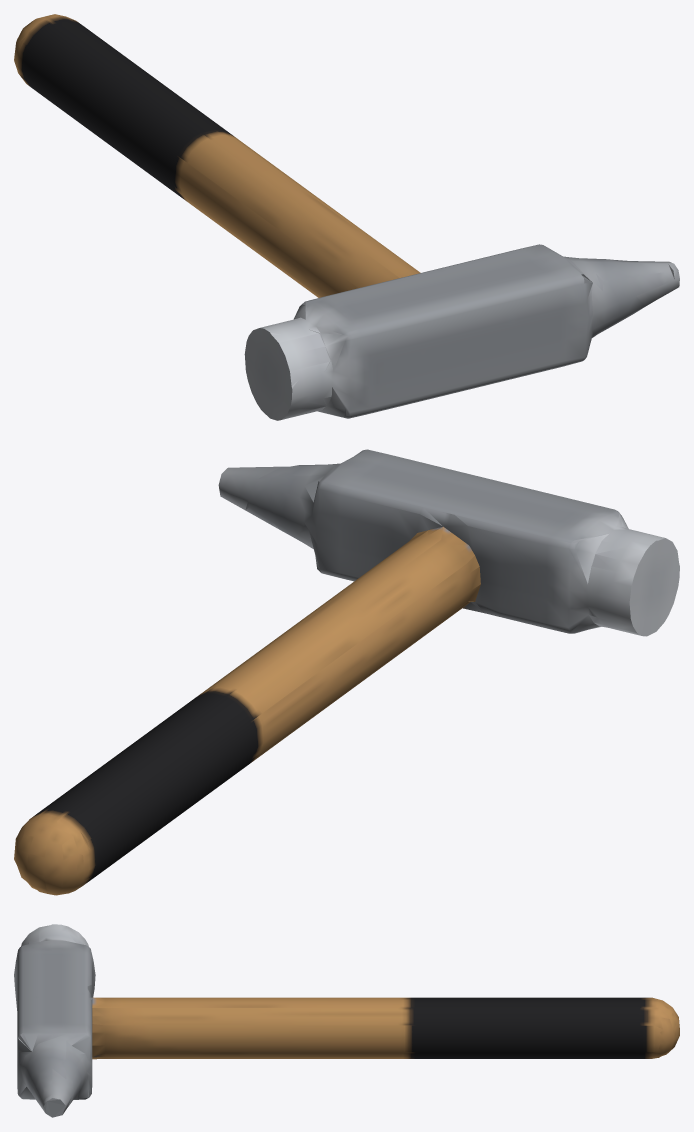
File: hammer_edits.mid.glb
The picture shows the model from 3 angles, top to bottom: view 1: azimuth 30°, elevation 25°; view 2: azimuth 150°, elevation 25°; view 3: azimuth 270°, elevation 25°; orthographic projection. The views are drawn at different scales.
Visible parts, largest first — view 1: hammer_edits; view 2: hammer_edits; view 3: hammer_edits.
Part boxes in pixels (bbox=[...]): hammer_edits: bbox=[14, 14, 679, 420]; hammer_edits: bbox=[14, 449, 679, 895]; hammer_edits: bbox=[14, 924, 679, 1117].
Bounding box in the file's own units: 0.162 × 0.037 × 0.302.
Materials: 1 (1 with a texture image).
